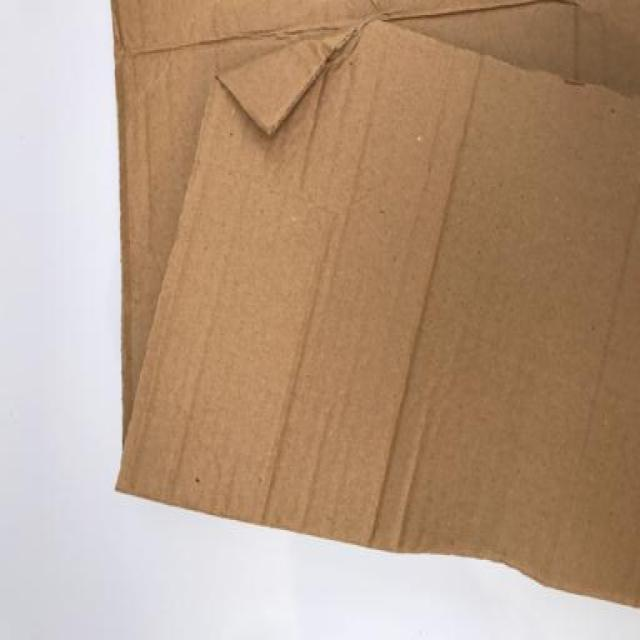Cardboard: (113, 0, 640, 610)
